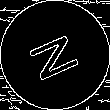N_NE: (24, 26, 86, 84)
